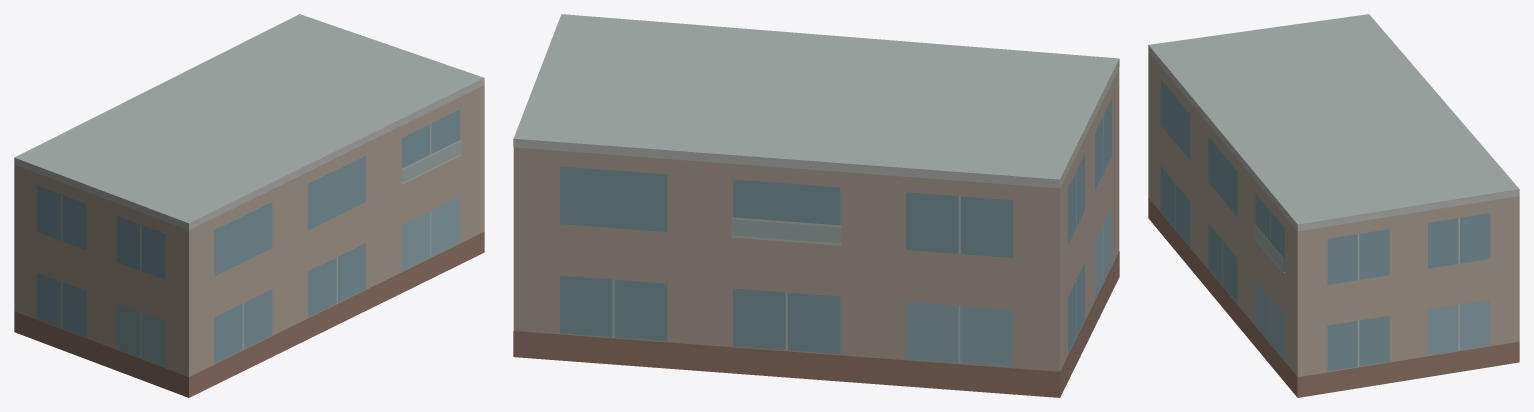
Rendered from survey-upis-32717578.glb.
3 views of the same model, side by side, from view 1: azimuth 30°, elevation 25°; view 2: azimuth 150°, elevation 25°; view 3: azimuth 270°, elevation 25° (orthographic). The views are drawn at different scales.
Visible parts, largest first — view 1: survey-upis-32717578.tmp; view 2: survey-upis-32717578.tmp; view 3: survey-upis-32717578.tmp.
Boxes of the visible parts, bbox=[...] form: survey-upis-32717578.tmp: bbox=[14, 14, 484, 397]; survey-upis-32717578.tmp: bbox=[513, 14, 1119, 397]; survey-upis-32717578.tmp: bbox=[1148, 14, 1519, 397].
Size of the model in its own units: 15.9 by 6.1 by 11.85.
